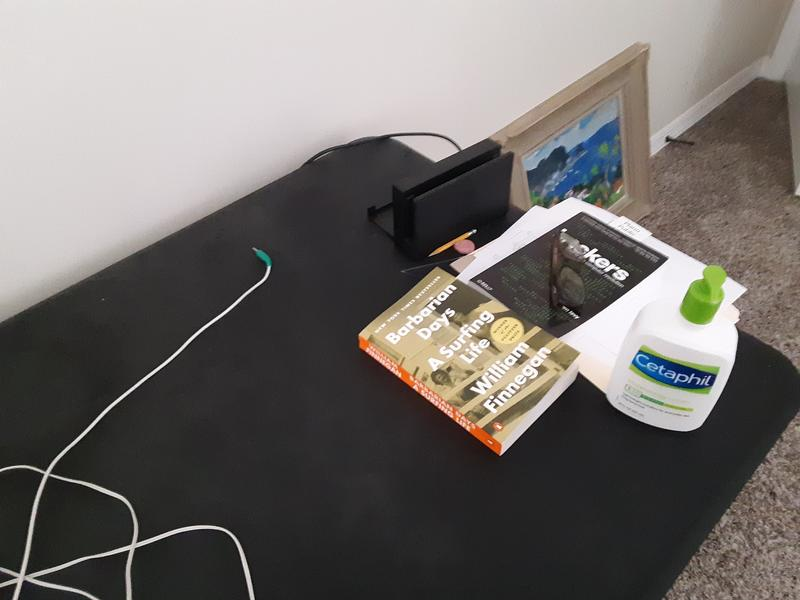glasses: (548, 230, 589, 316)
